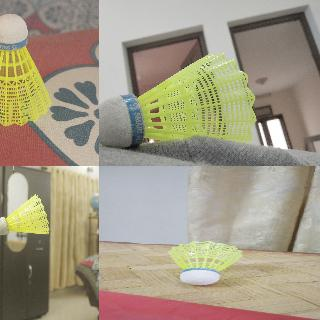shuttlecock: (99, 53, 256, 148), (0, 14, 51, 127), (168, 241, 241, 285), (0, 193, 49, 235)
